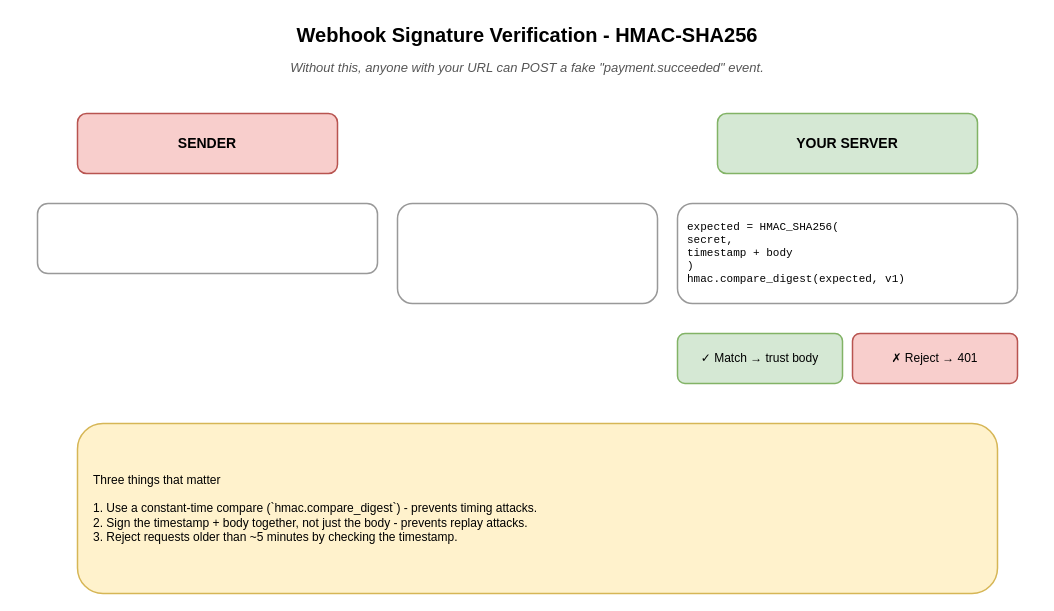
Image size: 1054x611. Some labels were removed from this diagram. Here are the shapes that lost their labels. From the top down, the centre of each, then its label:
At point 207,238: "sig = HMAC_SHA256( secret, timestamp + body )".
At point 527,253: "POST /webhooks/stripe Stripe-Signature: t=1700000000, v1=abc123def... {body}".
